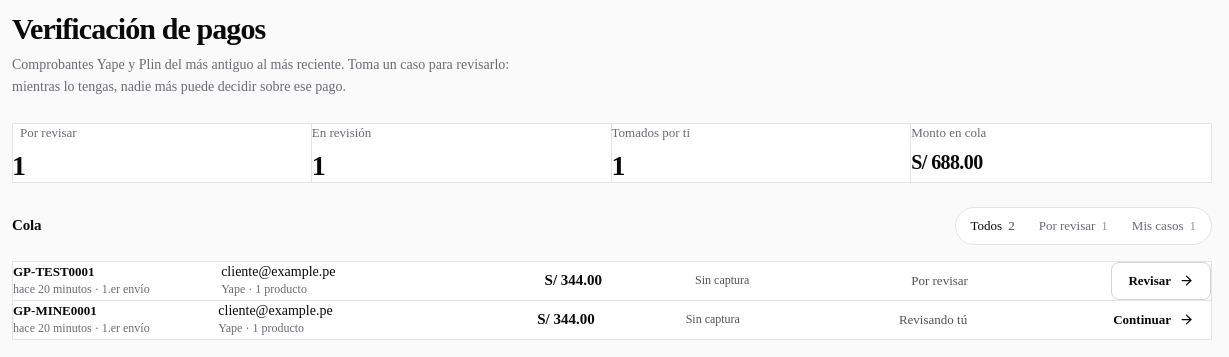
Test: GP-028 — payment verification queue UI › filters to the operator's own cases
Click the button "Mis casos 1" at [1164, 226], box [1120, 211, 1208, 241]
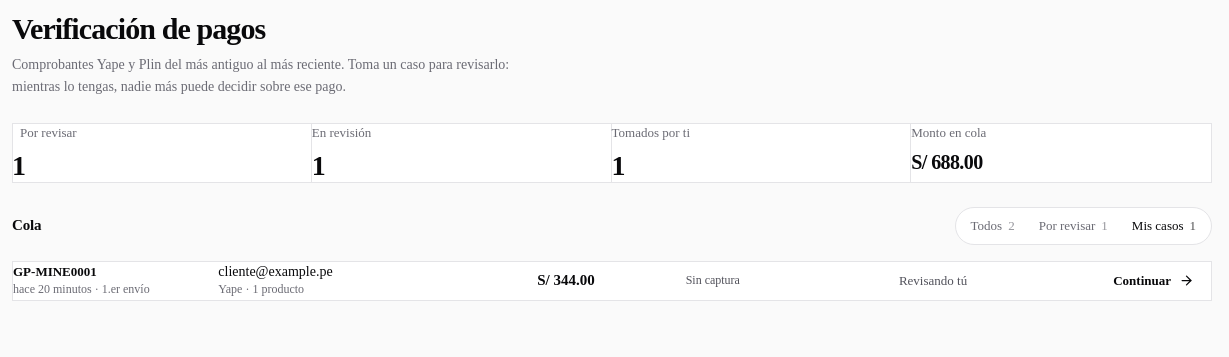
Expected: the text "GP-MINE0001" is shown, [13, 264, 97, 279]
Result: the number of list items with test id "verification-row" is 1 at [13, 262, 1211, 300]
